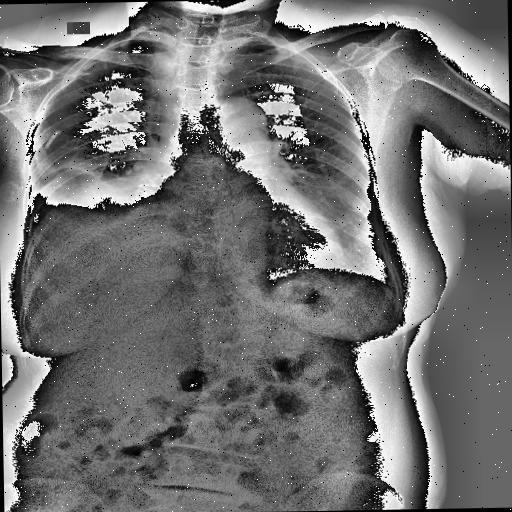0- Aortic enlargement: (206, 96, 270, 154), (206, 98, 270, 154), (219, 94, 271, 145)
10- Pleural effusion: (17, 184, 180, 276), (22, 187, 156, 268), (22, 186, 142, 276)
11- Pleural thickening: (83, 40, 136, 70)
13- Pulmonary fibrosis: (36, 160, 120, 196)
3- Cardiomegaly: (136, 192, 342, 272)
4- Consolidation: (83, 182, 139, 214)
7- Lung Opacity: (30, 178, 156, 214), (46, 177, 136, 213)
9- Other lesion: (42, 128, 60, 148), (45, 126, 61, 148)
